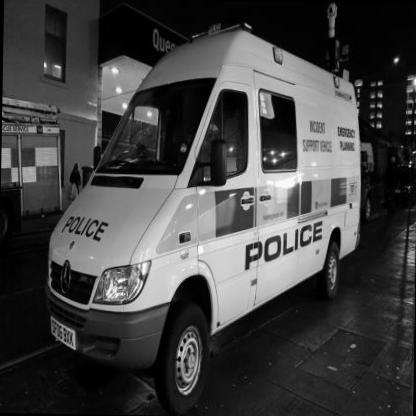ambulance: (30, 13, 401, 392)
